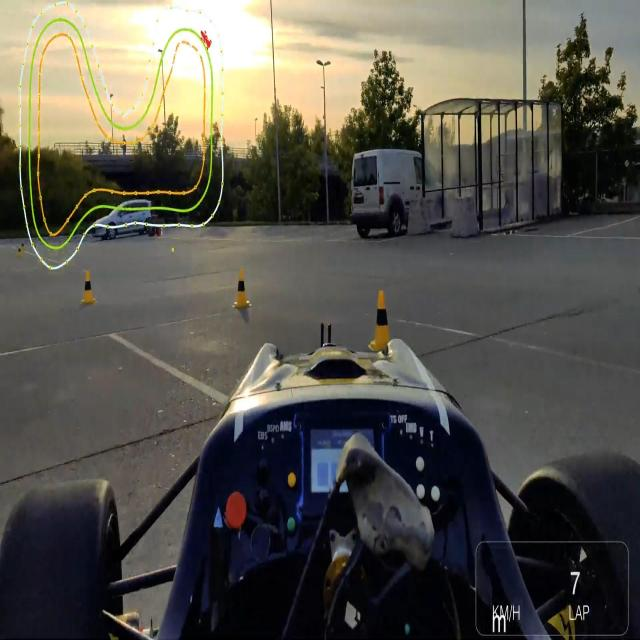yellow_cone: (369, 286, 396, 355), (228, 266, 254, 318), (78, 262, 100, 309), (17, 247, 23, 258), (20, 240, 25, 252)
